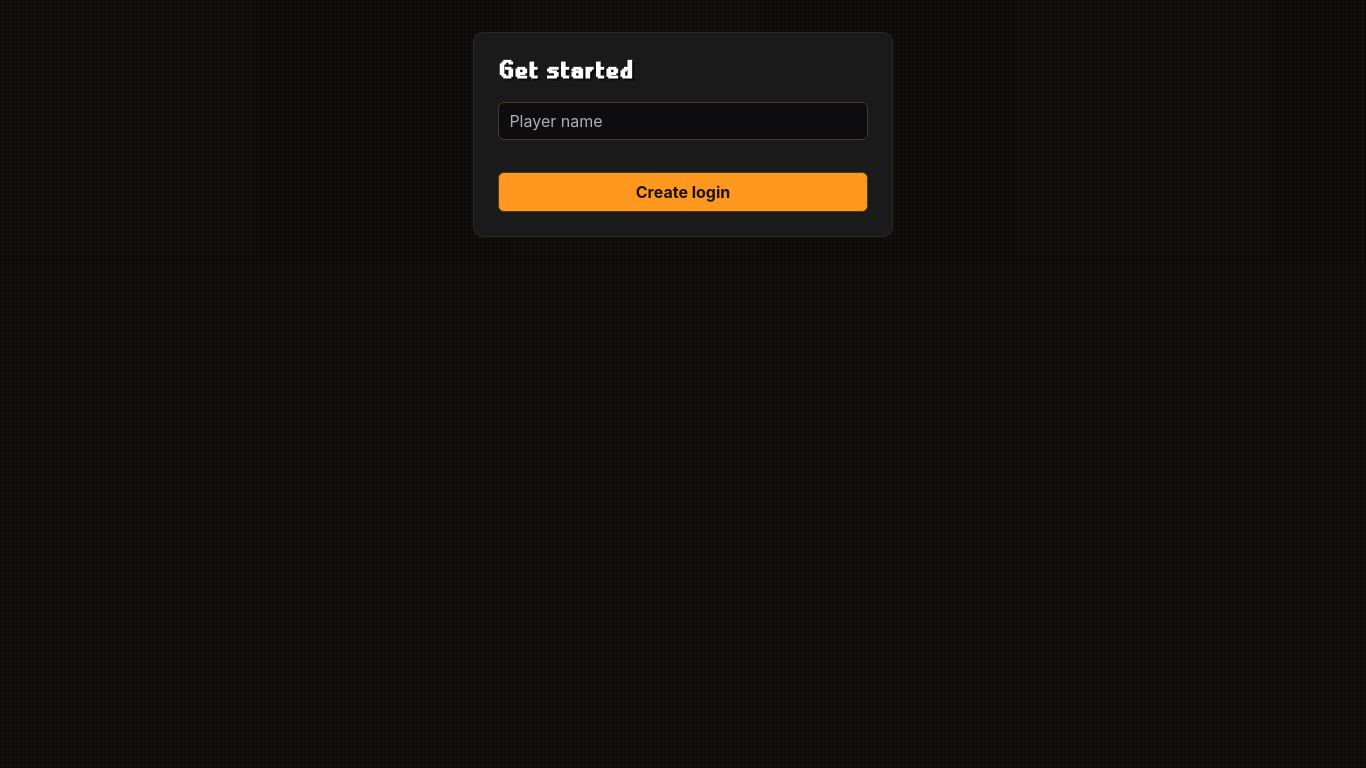
Test: CreateLogin › blocks submission when captcha is enabled but not completed
Type "myname" into the field named "Your OSRS name" at (683, 121), box [498,102,868,140]
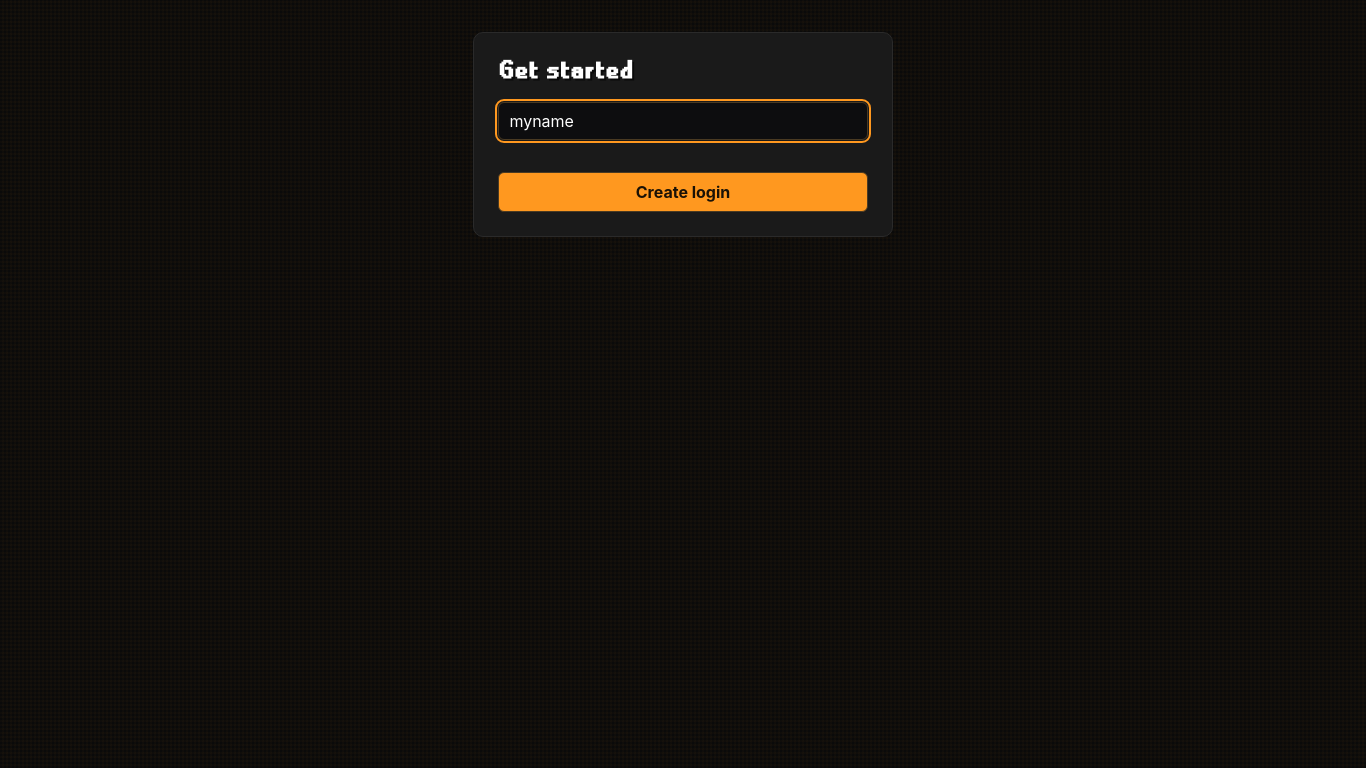
Click the button "Create login" at (683, 192), box [498,172,868,212]
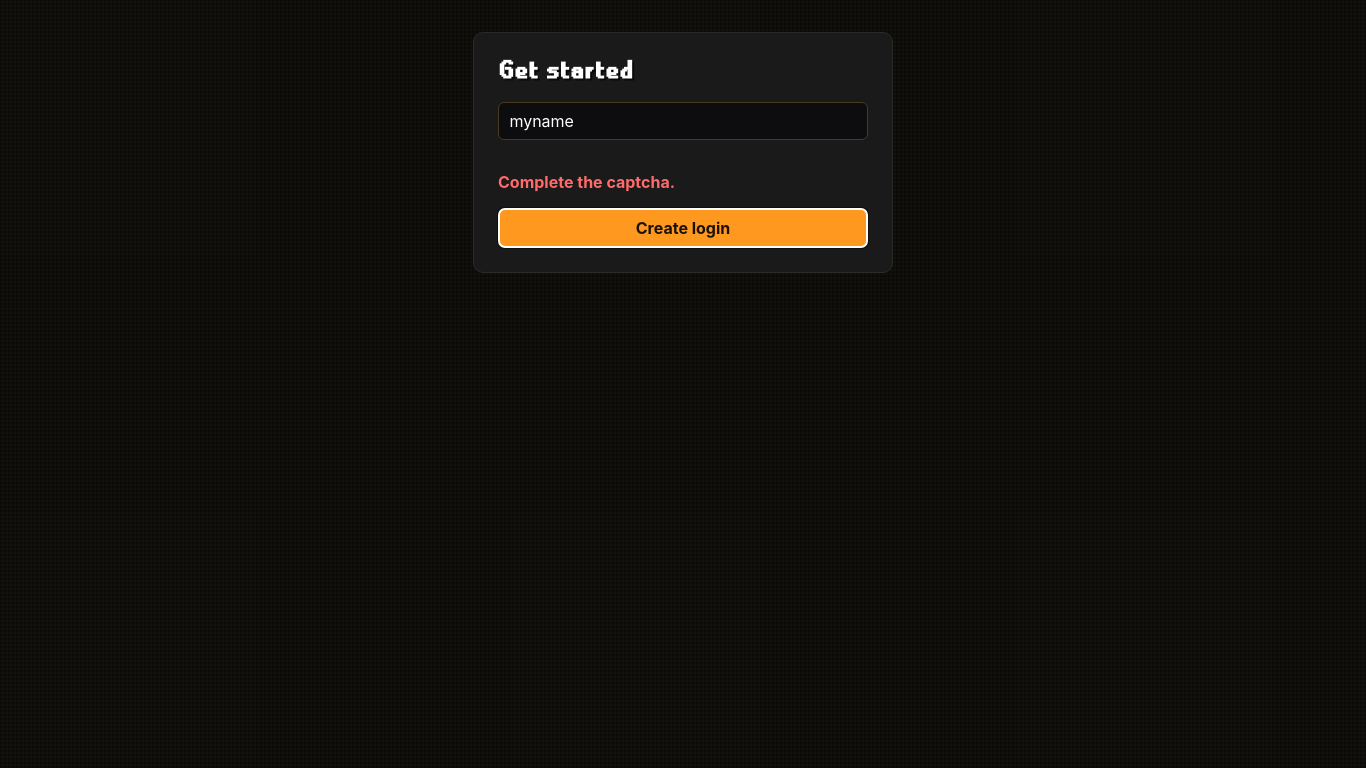
Expected: the text "Complete the captcha." is shown, [498,172,675,192]
